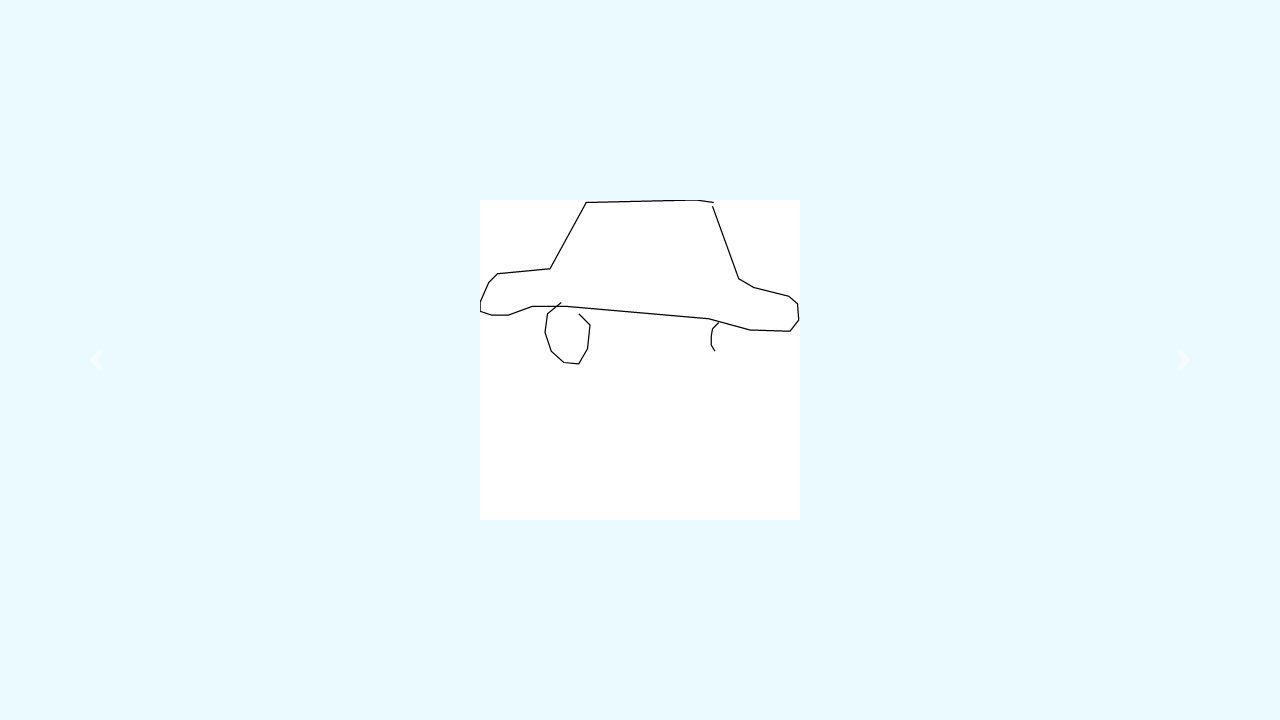car: (474, 193, 805, 372)
